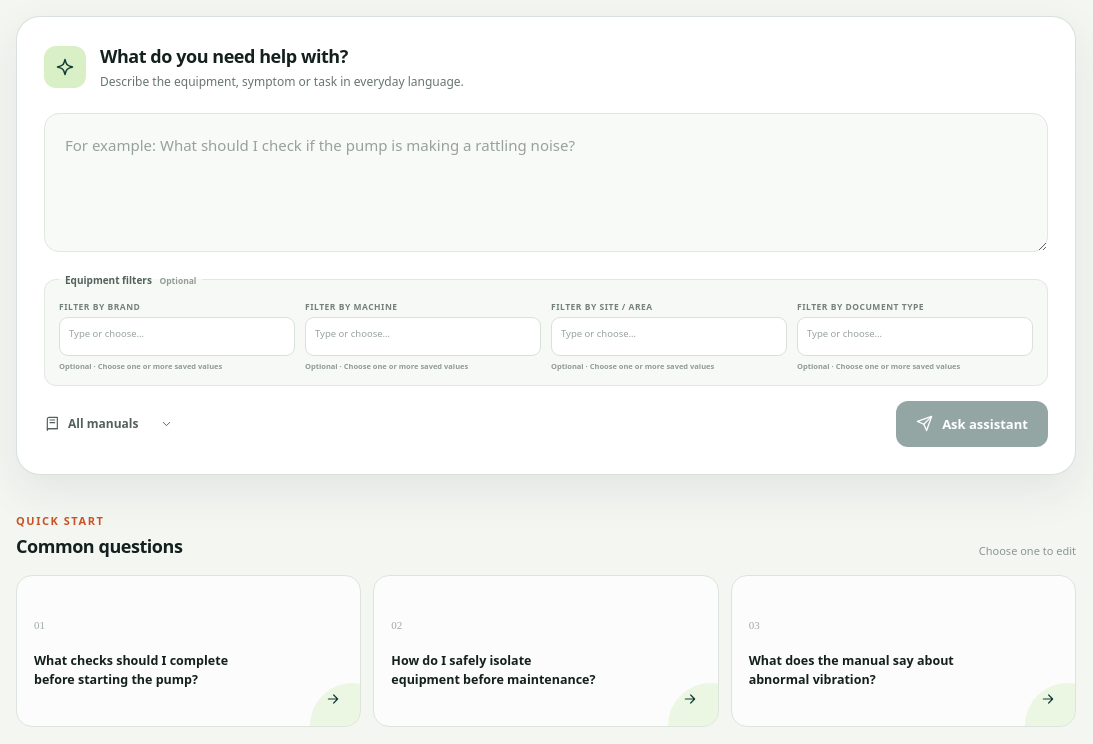
Test: AssistantWorkspace › fills the question box from a worker-friendly suggestion
(page scrolled)
Click the button "03 What does the manual say about abnormal vibration?".
click(903, 651)  # box [731,575,1076,727]
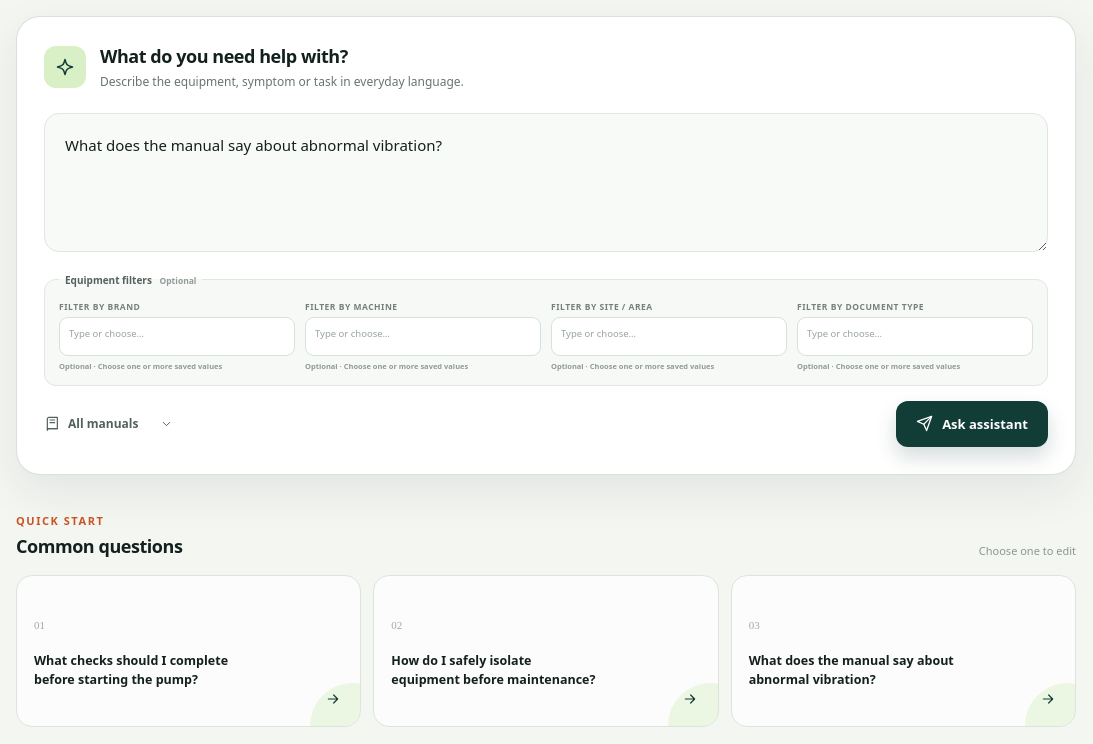
Now the text box named "Maintenance question" holds "What does the manual say about abnormal vibration?", box [44,113,1048,252]
